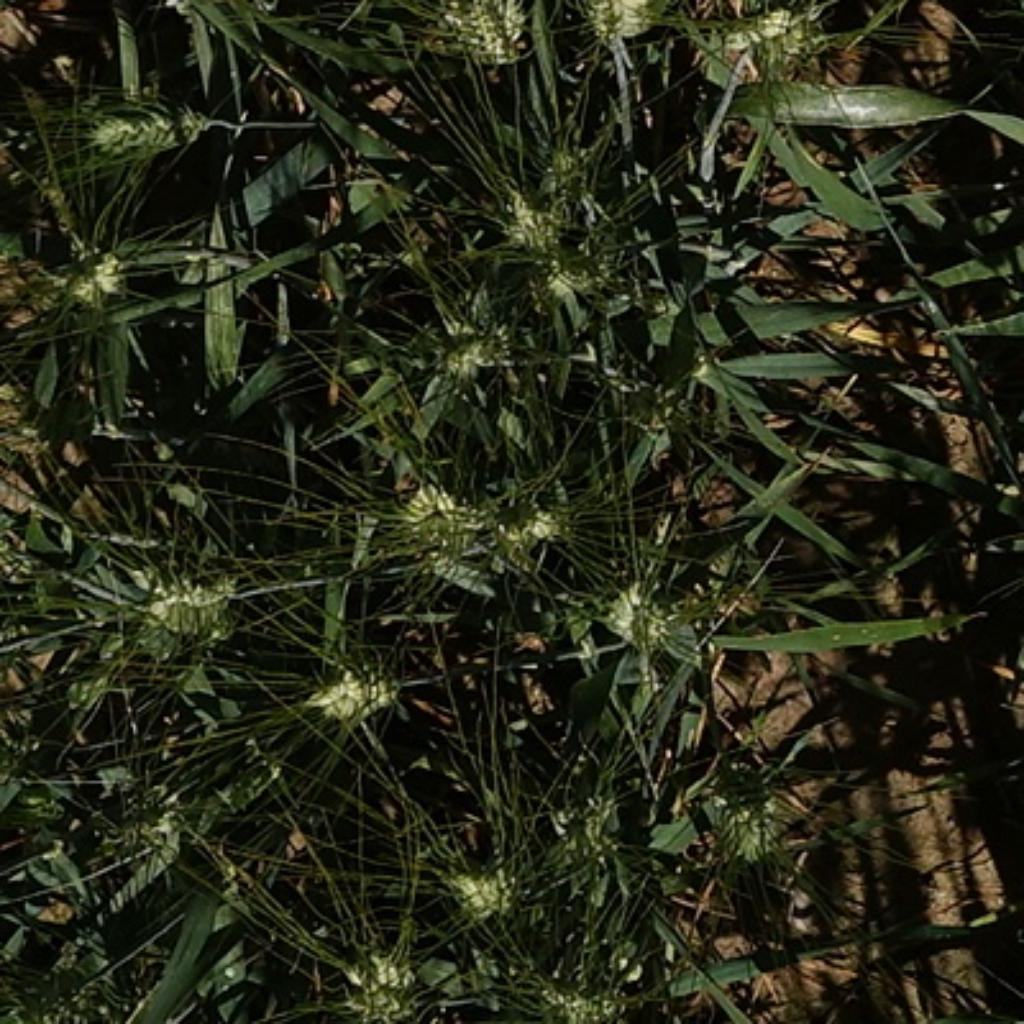0-0: (97, 542, 243, 660), (517, 757, 634, 893), (591, 550, 729, 660), (401, 299, 529, 412), (688, 737, 791, 870), (427, 819, 550, 926), (296, 616, 414, 727), (7, 225, 123, 328), (476, 478, 588, 583), (378, 476, 486, 578), (468, 171, 576, 273), (691, 0, 834, 76), (317, 924, 427, 1021), (76, 89, 215, 161), (532, 947, 650, 1024), (108, 770, 189, 865), (417, 0, 529, 64), (529, 235, 614, 314), (524, 130, 601, 194), (570, 0, 657, 40)
